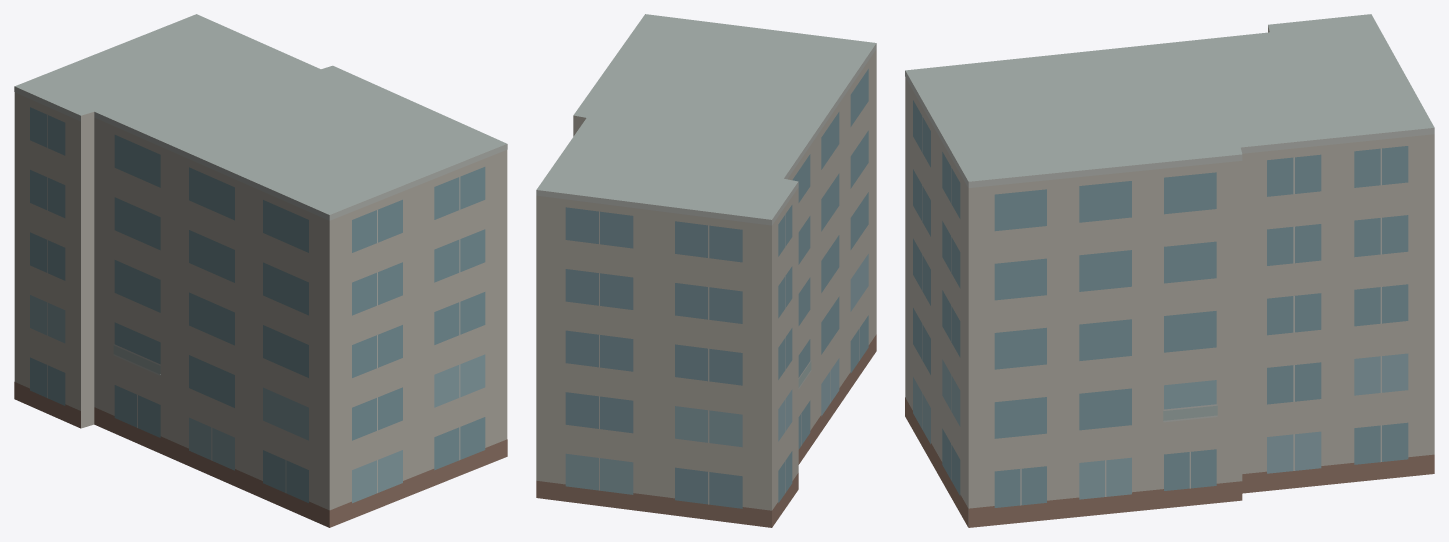
File: survey-upis-32598787.glb
3 views of the same model, side by side, from view 1: azimuth 30°, elevation 25°; view 2: azimuth 150°, elevation 25°; view 3: azimuth 270°, elevation 25° (orthographic). The views are drawn at different scales.
Visible parts, largest first — view 1: survey-upis-32598787.tmp; view 2: survey-upis-32598787.tmp; view 3: survey-upis-32598787.tmp.
Boxes of the visible parts, left/top/right/bottom form: survey-upis-32598787.tmp: left=14, top=14, right=507, bottom=527; survey-upis-32598787.tmp: left=536, top=14, right=876, bottom=527; survey-upis-32598787.tmp: left=905, top=14, right=1434, bottom=527.
Size of the model in its own units: 13.74 by 13.2 by 18.31.
